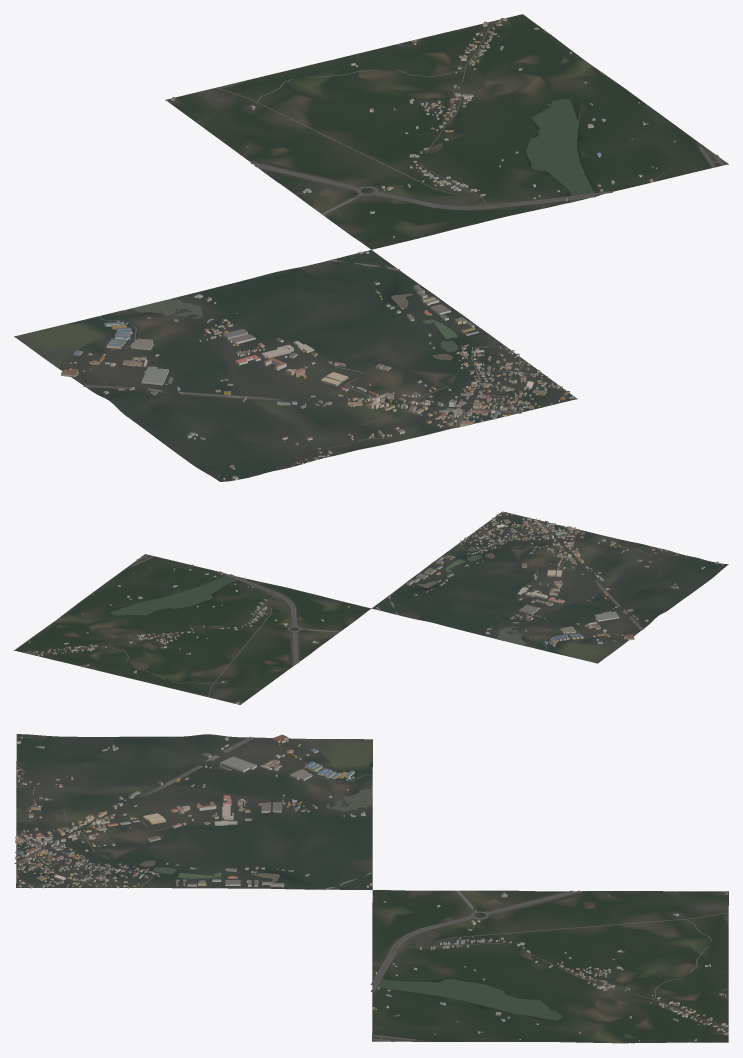
3 views of the same model, one above another, from view 1: azimuth 30°, elevation 25°; view 2: azimuth 150°, elevation 25°; view 3: azimuth 270°, elevation 25° (orthographic). The views are drawn at different scales.
Visible parts, largest first — view 1: ground, buildings, water, roads; view 2: ground, buildings, water, roads; view 3: ground, buildings, water, roads.
Part boxes in pixels (x1,y1,x2,y2): ground: [14, 14, 728, 481]; buildings: [61, 18, 675, 479]; water: [124, 99, 596, 360]; roads: [83, 20, 724, 481]; ground: [14, 512, 728, 704]; buildings: [26, 511, 722, 703]; water: [110, 553, 537, 646]; roads: [32, 519, 724, 697]; ground: [16, 734, 728, 1043]; buildings: [15, 734, 728, 1042]; water: [139, 785, 561, 1020]; roads: [14, 736, 728, 1041].
Size of the model in its own units: 2828 by 48.15 by 2813.
